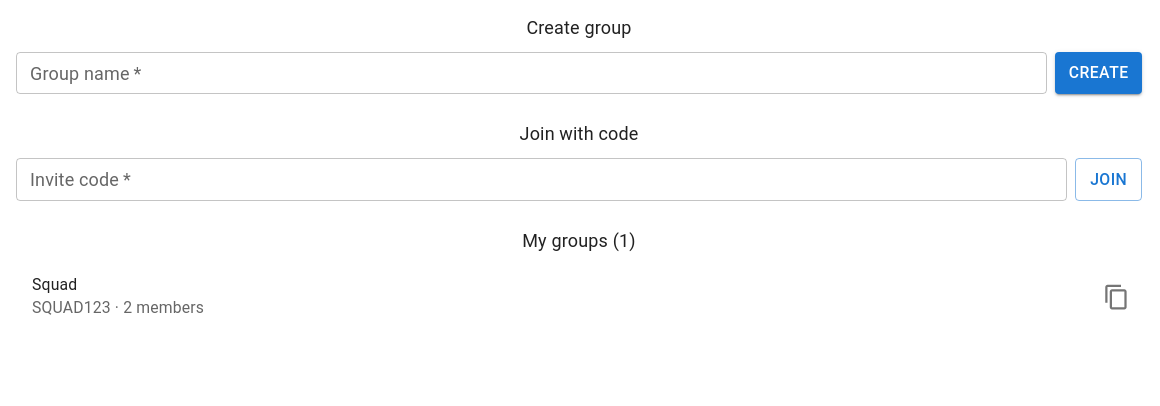
Test case: GroupsPanel member actions › lets a user send a friend request to a group member
The width and height of the screenshot is (1160, 406).
Click the text "Squad" at (55, 285), box [32, 275, 77, 294]
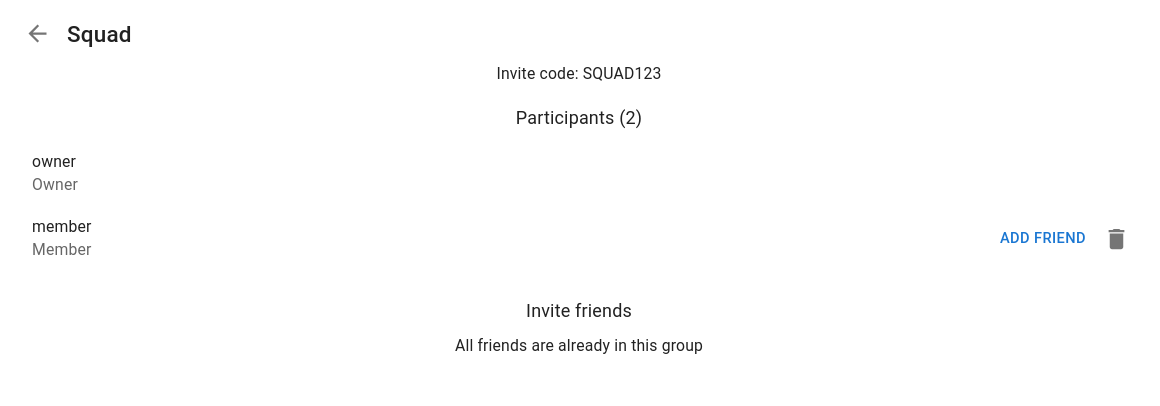
Click the button "Add friend" at (1043, 239), box [995, 222, 1091, 255]
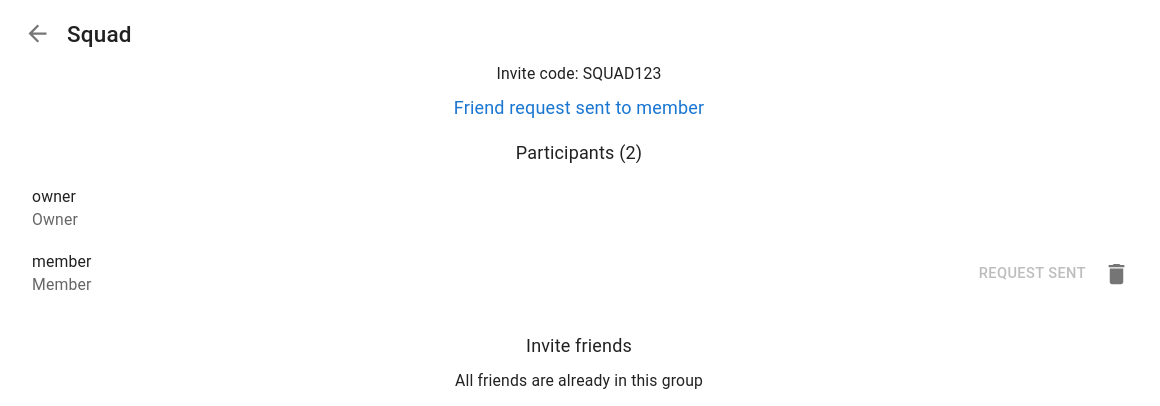
Expected: the text "Friend request sent to member" is shown, [454, 96, 704, 118]
